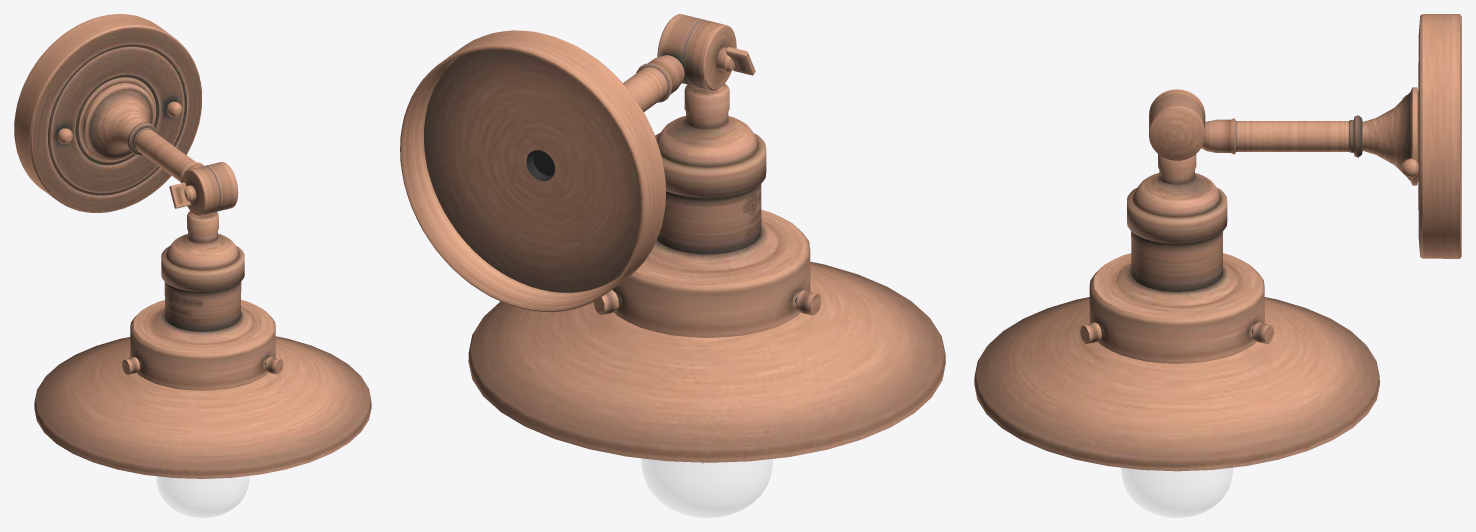
Rendered from AnisotropyBarnLamp.glb.
3 views of the same model, side by side, from view 1: azimuth 30°, elevation 25°; view 2: azimuth 150°, elevation 25°; view 3: azimuth 270°, elevation 25° (orthographic). The views are drawn at different scales.
Parts seen in each view (by area): view 1: Lamp Metal, Lamp Glass; view 2: Lamp Metal, Lamp Glass; view 3: Lamp Metal, Lamp Glass.
Boxes of the visible parts, left/top/right/bottom form: Lamp Metal: left=14, top=14, right=371, bottom=479; Lamp Glass: left=157, top=476, right=249, bottom=517; Lamp Metal: left=400, top=14, right=945, bottom=464; Lamp Glass: left=641, top=458, right=772, bottom=517; Lamp Metal: left=974, top=14, right=1461, bottom=471; Lamp Glass: left=1121, top=468, right=1232, bottom=517.
Bounding box in the file's own units: 0.1908 × 0.2552 × 0.2265.
3 materials, 1 textured.
